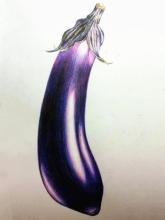fruit_eggplant: (35, 1, 113, 219)
